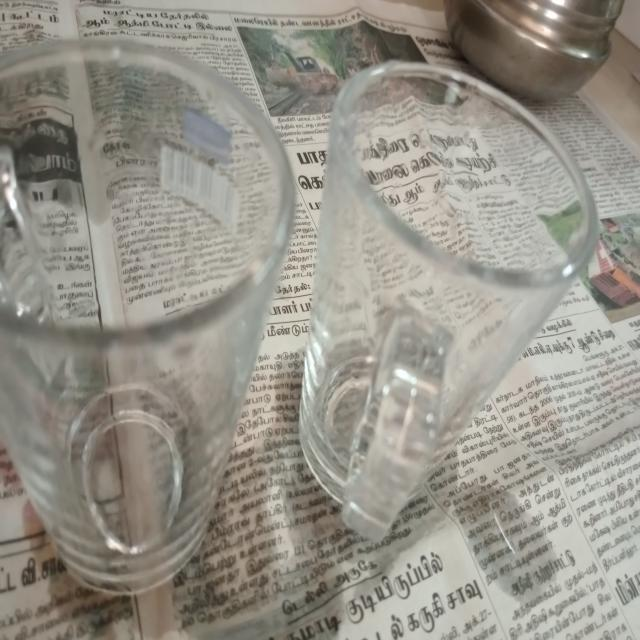glass-VX4N: (2, 32, 292, 570), (303, 59, 593, 541)
